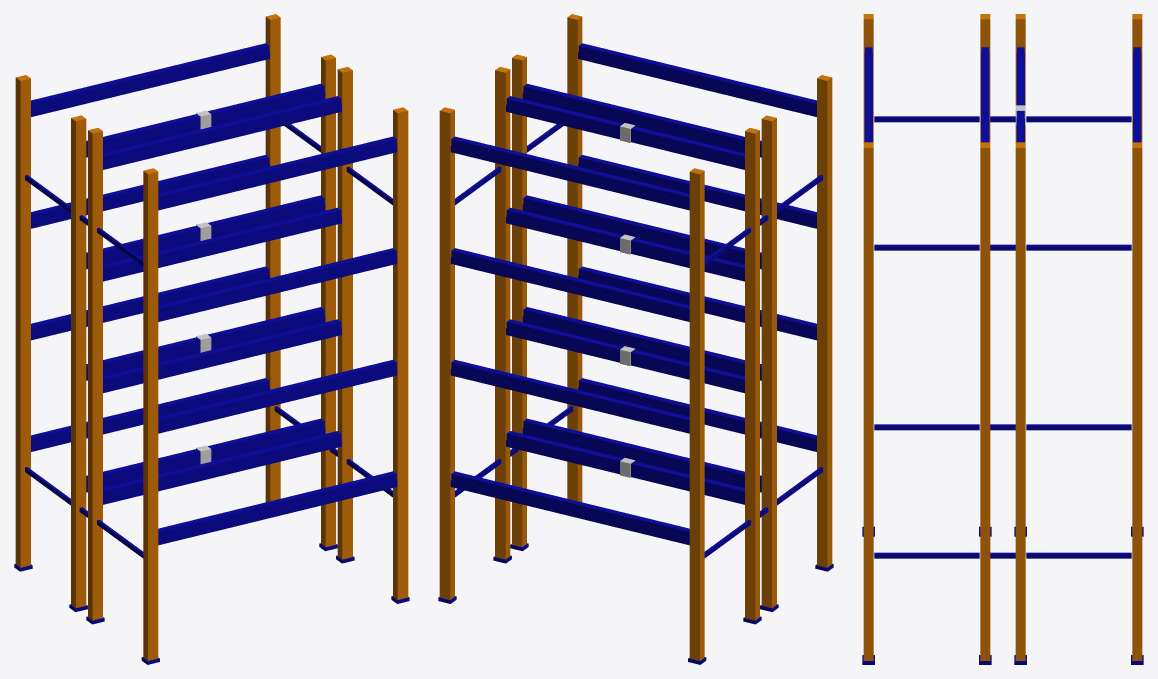
The model's file is high-duty-C25-4-pair.glb.
The picture shows the model from 3 angles, left to right: view 1: azimuth 30°, elevation 25°; view 2: azimuth 150°, elevation 25°; view 3: azimuth 270°, elevation 25°; orthographic projection. The views are drawn at different scales.
Visible parts, largest first — view 1: group2_geometry_0, group1_geometry_4, group1_geometry_0, group2_geometry_2, group2_geometry_4, group2_geometry_6, group1_geometry_2, group1_geometry_6, group2_geometry_20, group2_geometry_8, group2_geometry_12, group2_geometry_16 (+28 smaller); view 2: group1_geometry_4, group2_geometry_0, group2_geometry_4, group1_geometry_6, group1_geometry_0, group1_geometry_2, group2_geometry_6, group2_geometry_2, group1_geometry_25, group1_geometry_10, group1_geometry_15, group1_geometry_20 (+28 smaller); view 3: group1_geometry_2, group1_geometry_6, group2_geometry_2, group2_geometry_6, group1_geometry_25, group2_geometry_20, group2_geometry_22, group1_geometry_28, group1_geometry_29, group1_geometry_30, group1_geometry_31, group2_geometry_24 (+8 smaller).
Boxes of the visible parts, bbox=[...] form: group2_geometry_0: bbox=[143, 168, 158, 660]; group1_geometry_4: bbox=[15, 75, 30, 567]; group1_geometry_0: bbox=[71, 115, 86, 607]; group2_geometry_2: bbox=[393, 107, 408, 599]; group2_geometry_4: bbox=[88, 128, 102, 620]; group2_geometry_6: bbox=[337, 67, 352, 559]; group1_geometry_2: bbox=[321, 54, 335, 547]; group1_geometry_6: bbox=[265, 14, 280, 502]; group2_geometry_20: bbox=[158, 136, 396, 203]; group2_geometry_8: bbox=[158, 471, 396, 538]; group2_geometry_12: bbox=[158, 360, 396, 426]; group2_geometry_16: bbox=[158, 248, 396, 315]; group1_geometry_4: bbox=[689, 168, 704, 660]; group2_geometry_0: bbox=[817, 75, 832, 567]; group2_geometry_4: bbox=[761, 115, 776, 607]; group1_geometry_6: bbox=[439, 107, 454, 599]; group1_geometry_0: bbox=[745, 128, 759, 620]; group1_geometry_2: bbox=[495, 67, 510, 559]; group2_geometry_6: bbox=[512, 54, 526, 547]; group2_geometry_2: bbox=[567, 14, 582, 502]; group1_geometry_25: bbox=[451, 136, 689, 203]; group1_geometry_10: bbox=[451, 471, 689, 538]; group1_geometry_15: bbox=[451, 360, 689, 426]; group1_geometry_20: bbox=[451, 248, 689, 315]; group1_geometry_2: bbox=[1015, 142, 1025, 660]; group1_geometry_6: bbox=[1132, 142, 1142, 660]; group2_geometry_2: bbox=[863, 142, 873, 660]; group2_geometry_6: bbox=[980, 142, 990, 660]; group1_geometry_25: bbox=[1133, 47, 1140, 142]; group2_geometry_20: bbox=[865, 47, 872, 142]; group2_geometry_22: bbox=[981, 47, 988, 142]; group1_geometry_28: bbox=[1026, 424, 1131, 430]; group1_geometry_29: bbox=[1026, 116, 1131, 122]; group1_geometry_30: bbox=[1026, 552, 1131, 558]; group1_geometry_31: bbox=[1026, 244, 1131, 250]; group2_geometry_24: bbox=[874, 424, 979, 430].
Bounding box in the file's own units: 2520 × 4500 × 2220.
